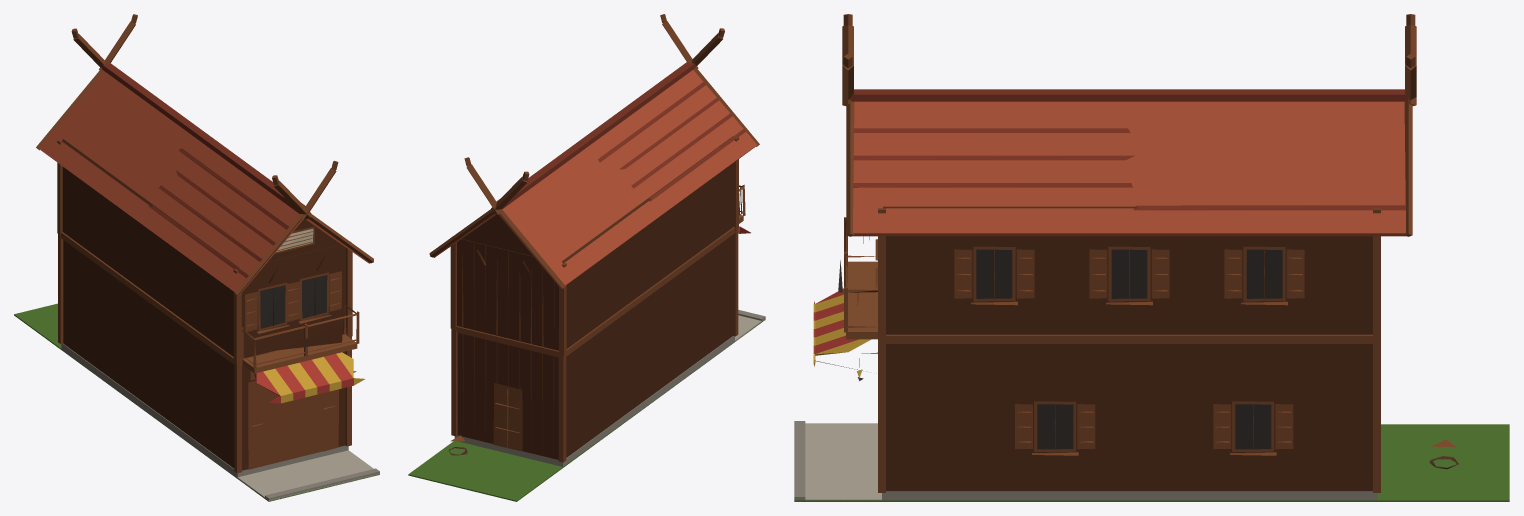
File: bay1_right.glb
3 views of the same model, side by side, from view 1: azimuth 30°, elevation 25°; view 2: azimuth 150°, elevation 25°; view 3: azimuth 270°, elevation 25° (orthographic). The views are drawn at different scales.
Visible parts, largest first — view 1: body, windows; view 2: body; view 3: body, windows.
Boxes of the visible parts, x1=… form: body: x1=14, y1=14, x2=379, y2=501; windows: x1=260, y1=275, x2=327, y2=328; body: x1=408, y1=14, x2=765, y2=501; body: x1=794, y1=14, x2=1509, y2=501; windows: x1=857, y1=249, x2=1282, y2=449.
Bounding box in the file's own units: 5.02 × 10.53 × 15.9.
